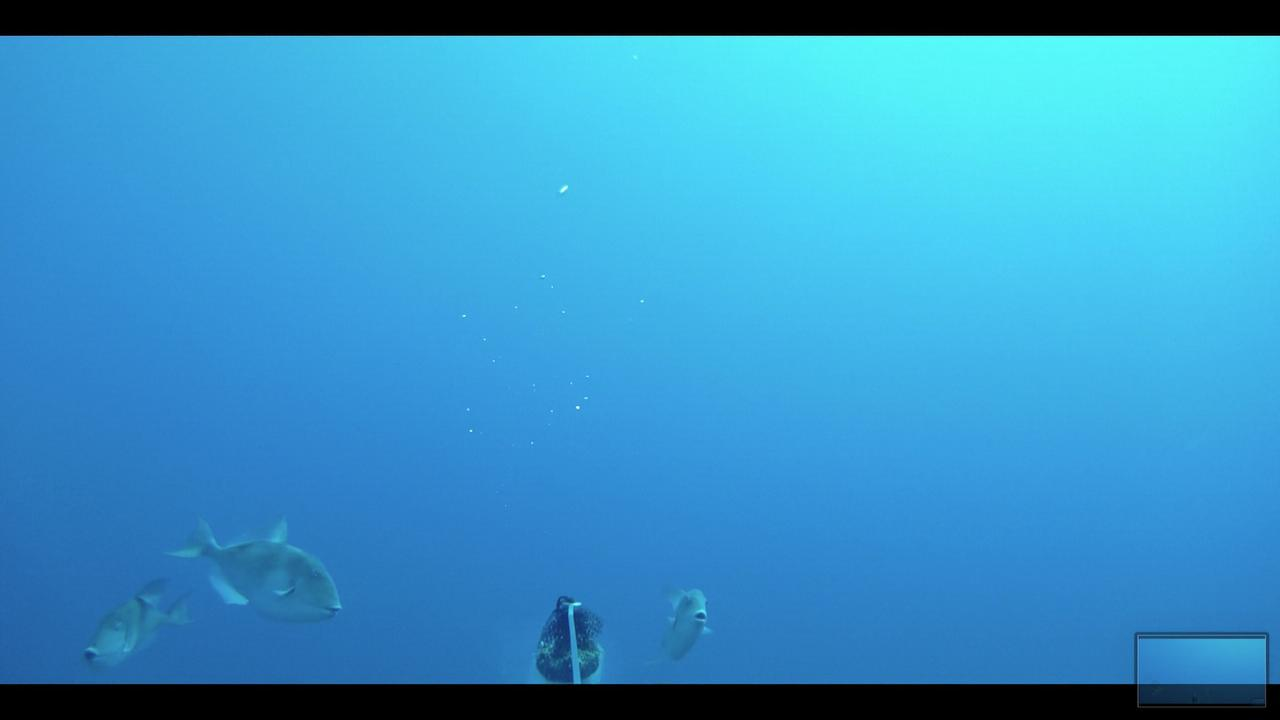balistes: (160, 498, 344, 624), (75, 570, 201, 668), (644, 581, 712, 666)
